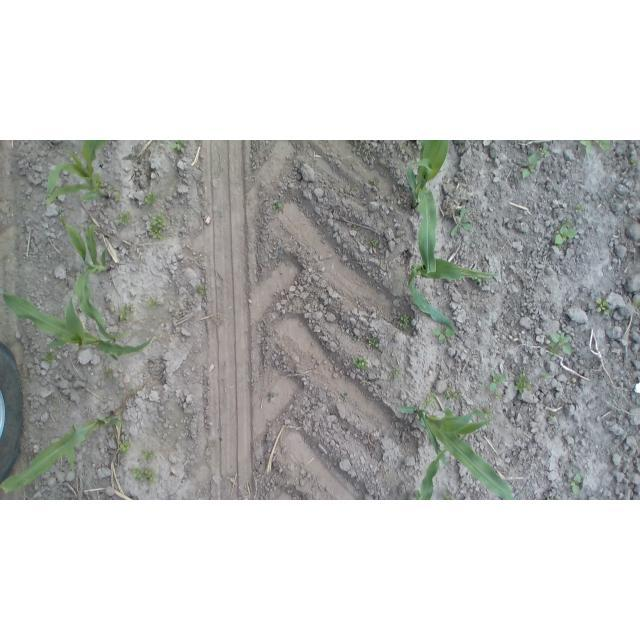Maize: (397, 404, 516, 500), (1, 290, 156, 362), (2, 411, 123, 496), (57, 205, 133, 339), (404, 255, 503, 337), (403, 141, 449, 274), (43, 141, 109, 208), (414, 447, 447, 500)
Weeds: (449, 206, 473, 237), (548, 332, 573, 357), (146, 211, 167, 240), (129, 465, 158, 485), (521, 151, 540, 178), (552, 225, 576, 245), (441, 382, 464, 402), (514, 370, 533, 394), (489, 370, 507, 392), (434, 326, 454, 344), (567, 471, 582, 495), (117, 301, 133, 323), (419, 390, 438, 408), (141, 448, 158, 465), (596, 298, 611, 317), (351, 355, 368, 370), (581, 141, 596, 158), (117, 209, 131, 227), (399, 314, 412, 333), (170, 140, 187, 153), (388, 364, 401, 380), (595, 141, 613, 152), (143, 192, 157, 205), (118, 441, 132, 454), (147, 295, 158, 309), (44, 351, 56, 363), (195, 283, 206, 296), (103, 367, 114, 379), (443, 489, 454, 500), (368, 337, 380, 347), (367, 237, 379, 247), (574, 203, 586, 213), (266, 391, 276, 402), (272, 202, 282, 213), (483, 407, 493, 418), (397, 141, 406, 153), (540, 144, 548, 157), (541, 372, 552, 381), (114, 191, 122, 203), (494, 392, 502, 403), (370, 176, 379, 185), (546, 412, 555, 421), (340, 392, 348, 402), (562, 219, 573, 226), (630, 158, 638, 167), (631, 298, 640, 305), (353, 182, 361, 189), (108, 185, 115, 192), (353, 335, 359, 342), (354, 225, 359, 232)
